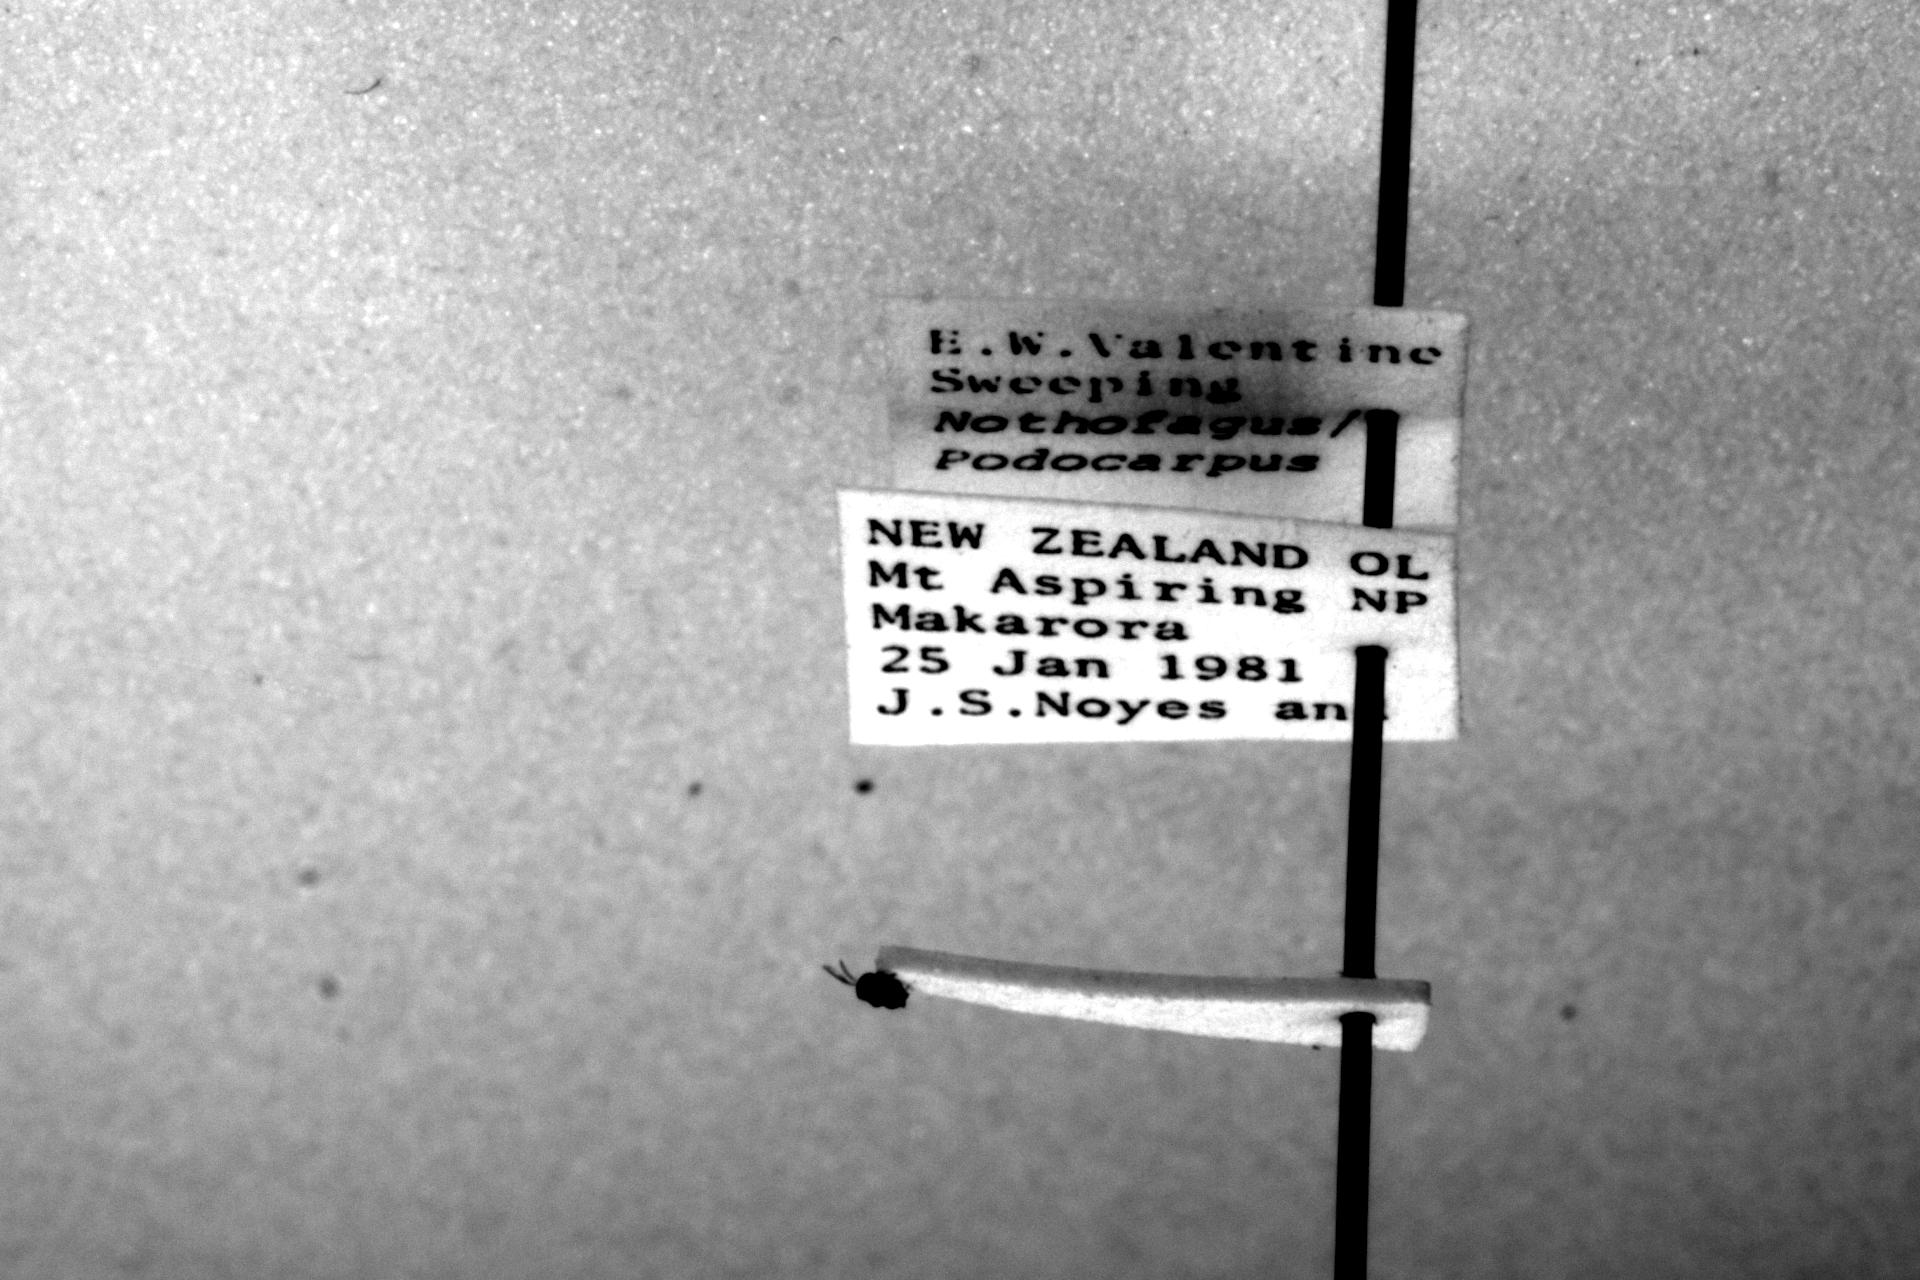typed_label: (840, 491, 1459, 746), (886, 296, 1466, 529)
